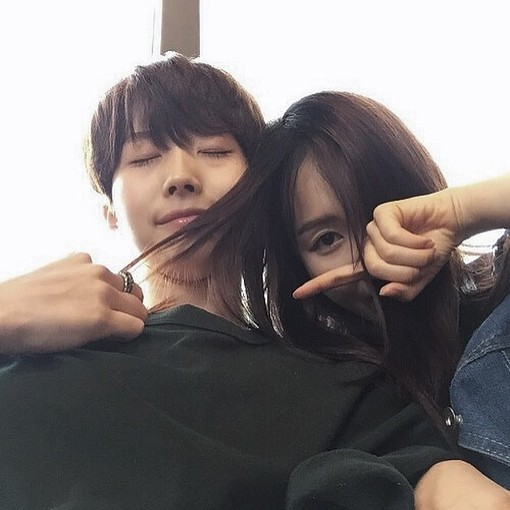face: (296, 152, 440, 323), (115, 99, 249, 282)
